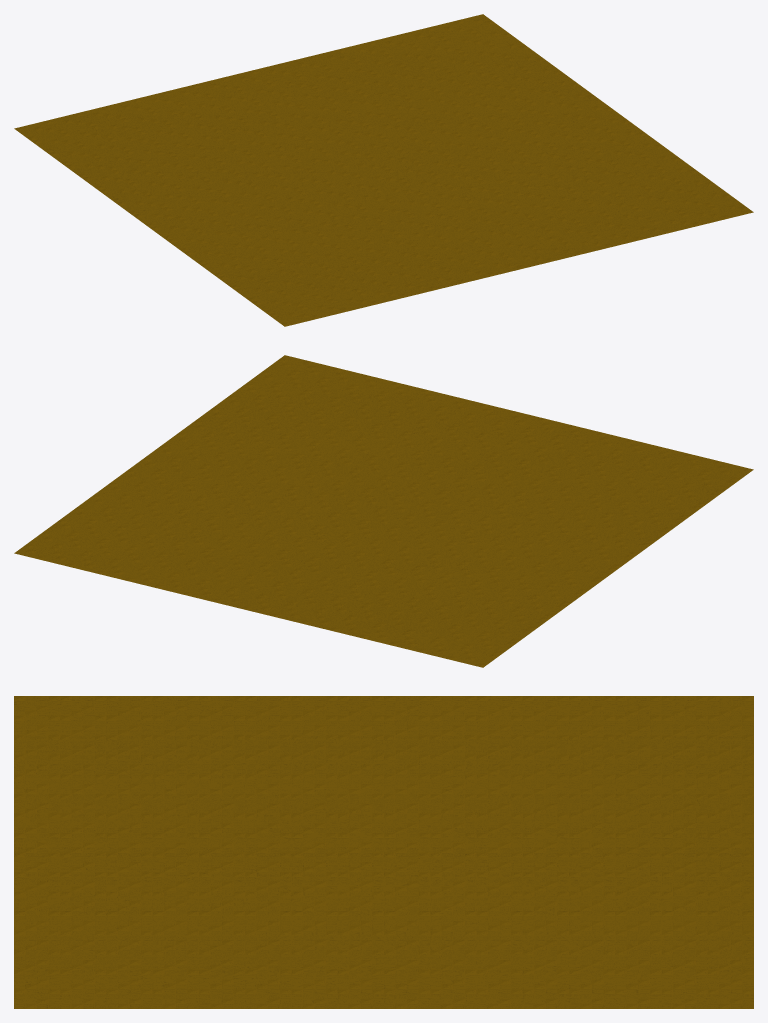
The model's file is ground_exploded.dae.
3 views of the same model, one above another, from view 1: azimuth 30°, elevation 25°; view 2: azimuth 150°, elevation 25°; view 3: azimuth 270°, elevation 25° (orthographic). The views are drawn at different scales.
Parts seen in each view (by area): view 1: SketchUp; view 2: SketchUp; view 3: SketchUp.
Boxes of the visible parts, left/top/right/bottom form: SketchUp: left=14, top=14, right=753, bottom=326; SketchUp: left=14, top=355, right=753, bottom=667; SketchUp: left=14, top=696, right=753, bottom=1008.
Size of the model in its own units: 32 by 32 by 1.18.
